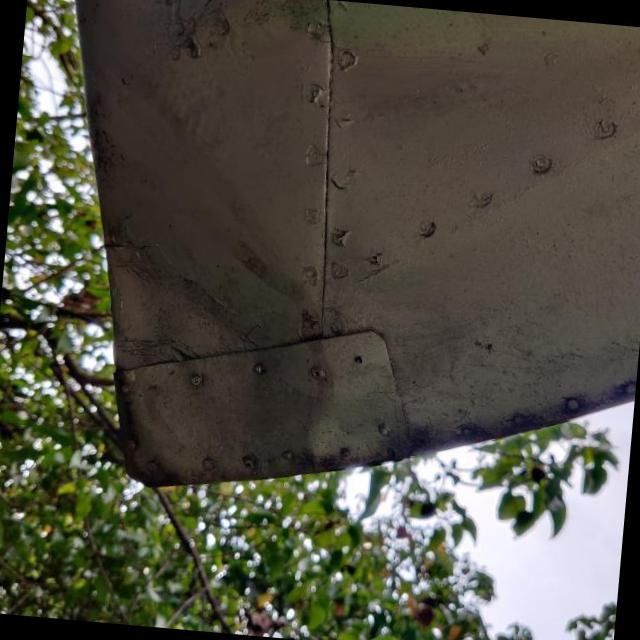Dent: (108, 238, 386, 485)
